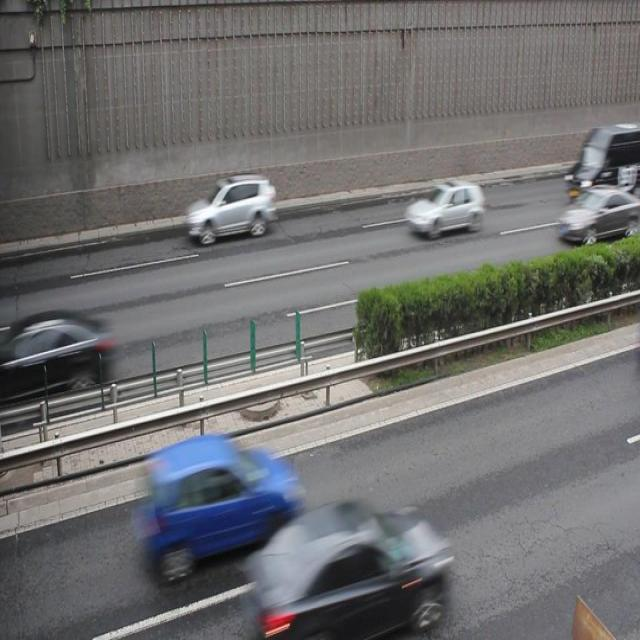car: (243, 495, 449, 640), (138, 434, 298, 580), (12, 309, 110, 402), (188, 172, 276, 246), (557, 185, 640, 245), (404, 175, 484, 237)
truck: (567, 120, 640, 201)
